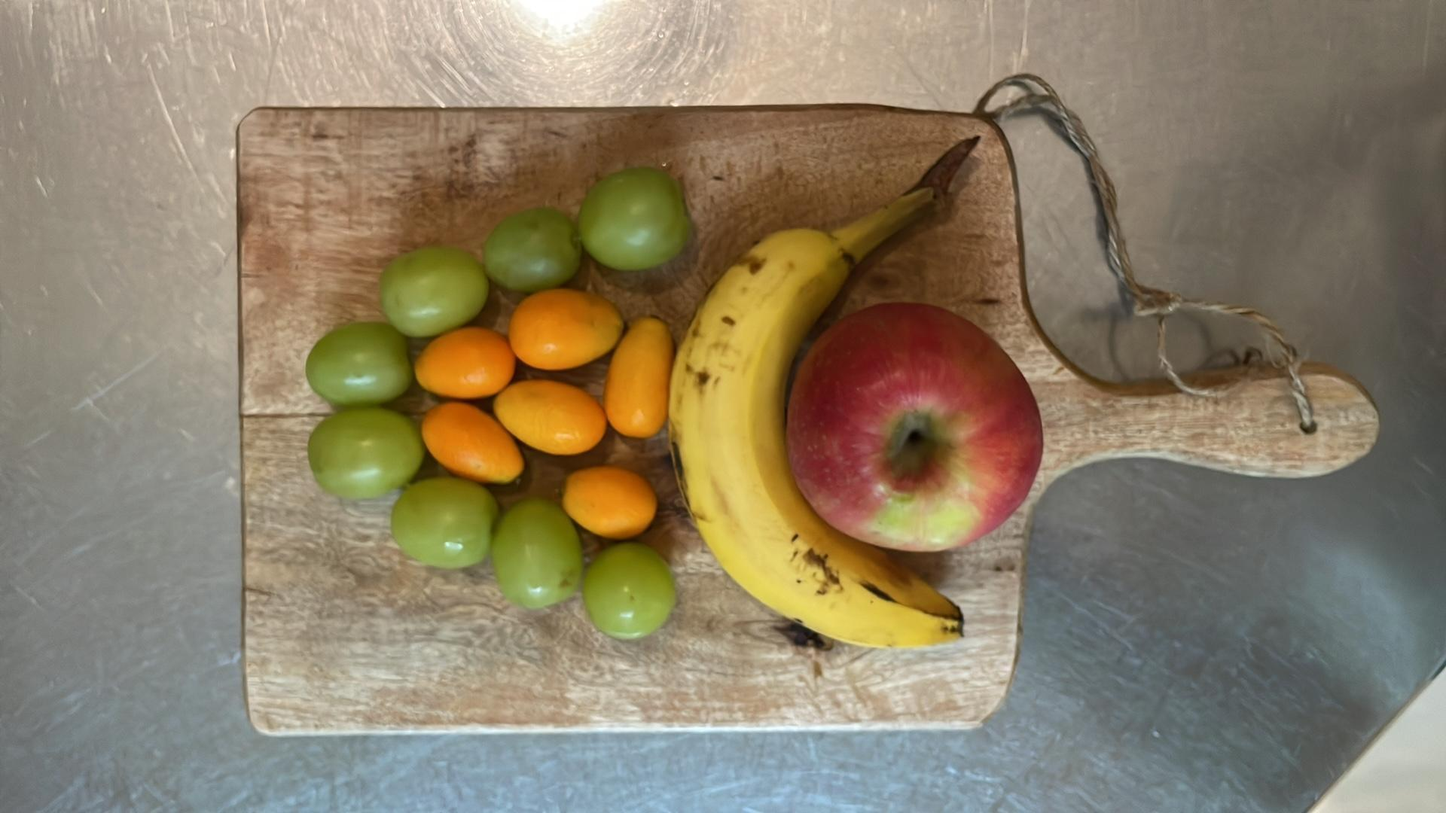apple: (786, 297, 1044, 553)
banana: (676, 218, 820, 625)
grape: (387, 479, 506, 577), (493, 498, 587, 613), (369, 243, 487, 334), (575, 169, 682, 266), (298, 318, 412, 405), (307, 412, 419, 500), (585, 544, 666, 637), (481, 210, 578, 286)
